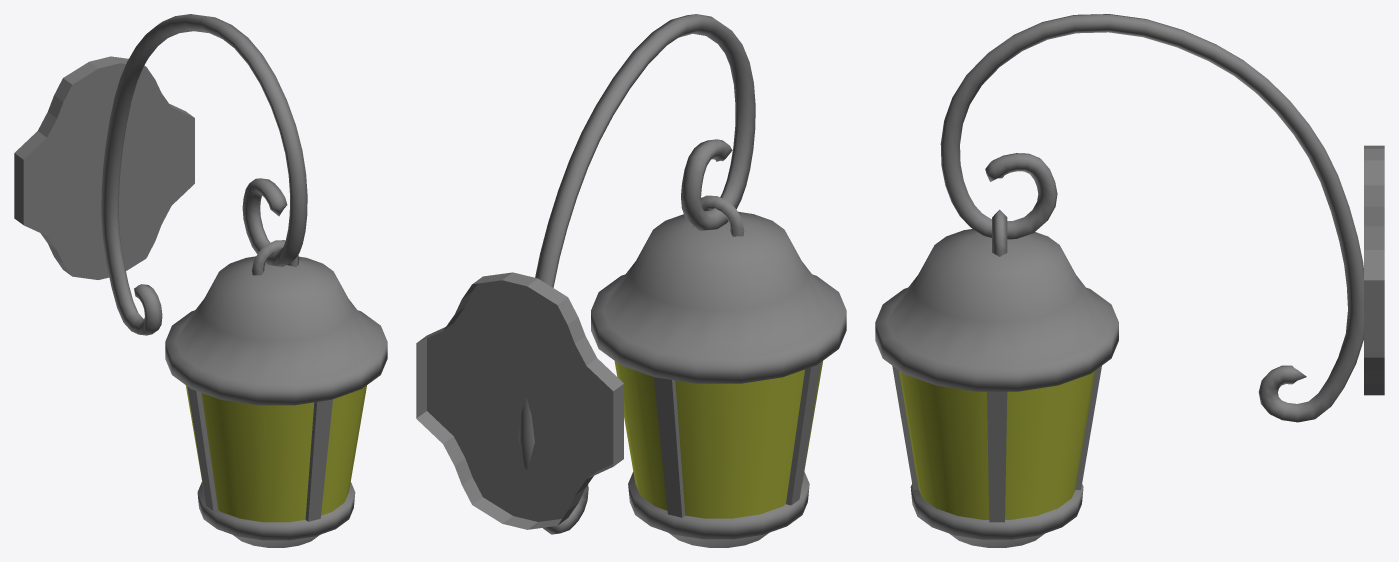
File: SM_lamp_wall_02.fbx
3 renders of one model, left to right at view 1: azimuth 30°, elevation 25°; view 2: azimuth 150°, elevation 25°; view 3: azimuth 270°, elevation 25°, orthographic. The views are drawn at different scales.
Parts seen in each view (by area): view 1: Plane015; view 2: Plane015; view 3: Plane015.
Boxes of the visible parts, x1,y1,x2,y2 form: Plane015: (14, 14, 387, 547); Plane015: (416, 14, 846, 547); Plane015: (875, 14, 1384, 547).
Size of the model in its own units: 15.96 by 38.52 by 33.88.
